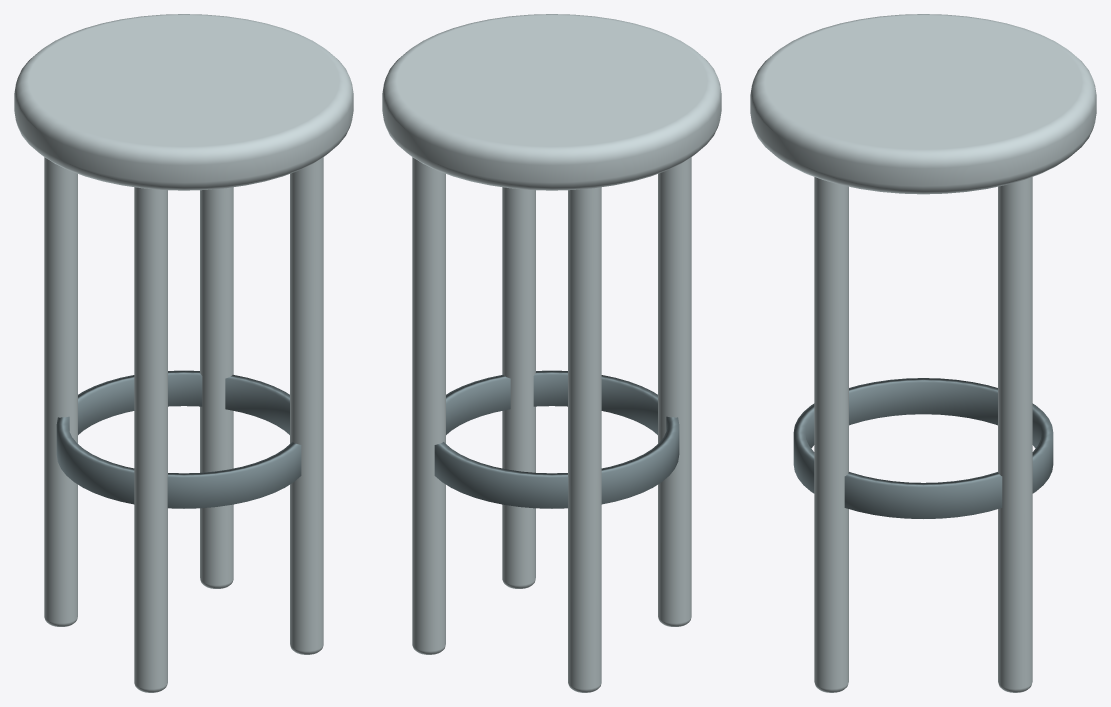
File: stool.glb
3 views of the same model, side by side, from view 1: azimuth 30°, elevation 25°; view 2: azimuth 150°, elevation 25°; view 3: azimuth 270°, elevation 25° (orthographic). The views are drawn at different scales.
Visible parts, largest first — view 1: seat, leg_2, leg_1, leg_3, foot_rest, leg_4; view 2: seat, leg_3, leg_4, leg_2, foot_rest, leg_1; view 3: seat, leg_1, leg_4, foot_rest.
Part boxes in pixels (box(x1,y1,x2,y2)): seat: box(14, 14, 353, 190); leg_2: box(134, 187, 167, 692); leg_1: box(290, 157, 323, 654); leg_3: box(44, 157, 77, 626); foot_rest: box(56, 370, 301, 508); leg_4: box(200, 187, 233, 588); seat: box(382, 14, 721, 190); leg_3: box(568, 187, 601, 692); leg_4: box(412, 157, 445, 654); leg_2: box(658, 157, 691, 626); foot_rest: box(434, 370, 679, 508); leg_1: box(502, 187, 535, 588); seat: box(750, 14, 1096, 194); leg_1: box(814, 177, 848, 692); leg_4: box(998, 177, 1032, 692); foot_rest: box(793, 378, 1053, 518).
Size of the model in its own units: 0.36 by 0.65 by 0.36.
